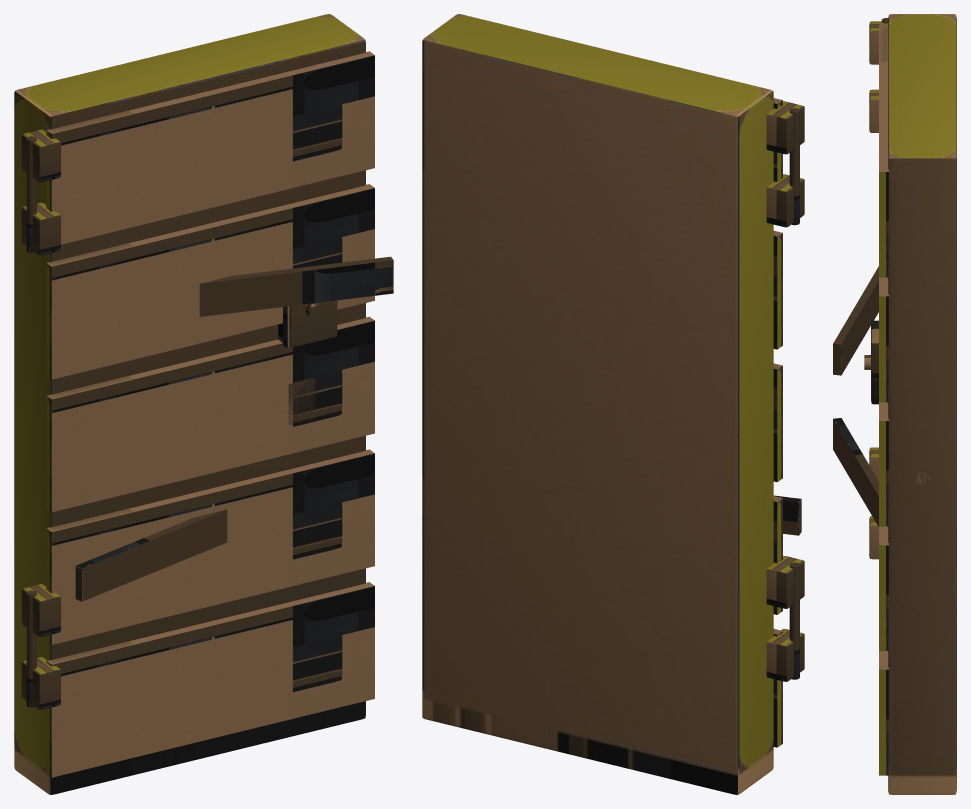
File: DD_door_wood.glb
The picture shows the model from 3 angles, left to right: view 1: azimuth 30°, elevation 25°; view 2: azimuth 150°, elevation 25°; view 3: azimuth 270°, elevation 25°; orthographic projection. The views are drawn at different scales.
Parts seen in each view (by area): view 1: DD_door_wood; view 2: DD_door_wood; view 3: DD_door_wood.
Part boxes in pixels (x1=…): DD_door_wood: x1=14, y1=14, x2=393, y2=794; DD_door_wood: x1=422, y1=14, x2=804, y2=794; DD_door_wood: x1=833, y1=14, x2=956, y2=794.
Bounding box in the file's own units: 1.08 × 2.05 × 0.3605.
1 material, 1 textured.
